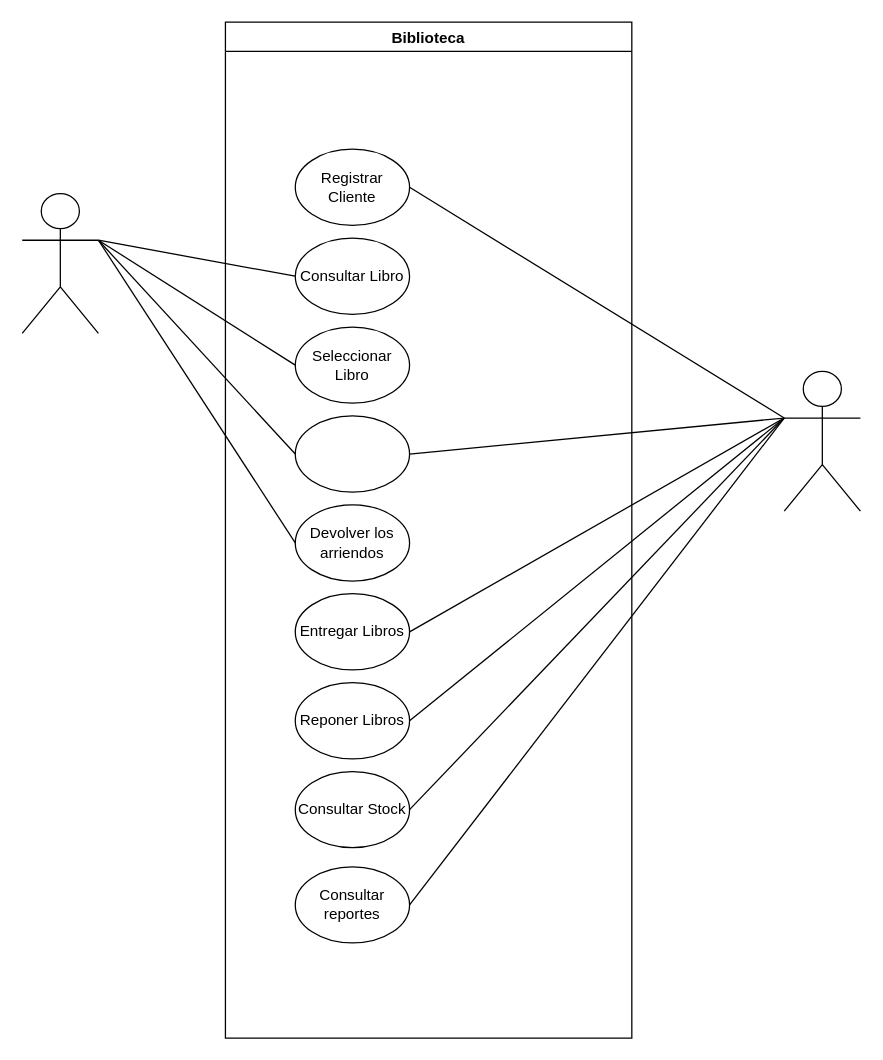
This 883x1060 diagram has some shape labels left out. Each missing label, with the centre of its shape:
"Cliente" belongs at (59,262).
"Empleado" belongs at (821,440).
"Pagar" belongs at (352,453).
